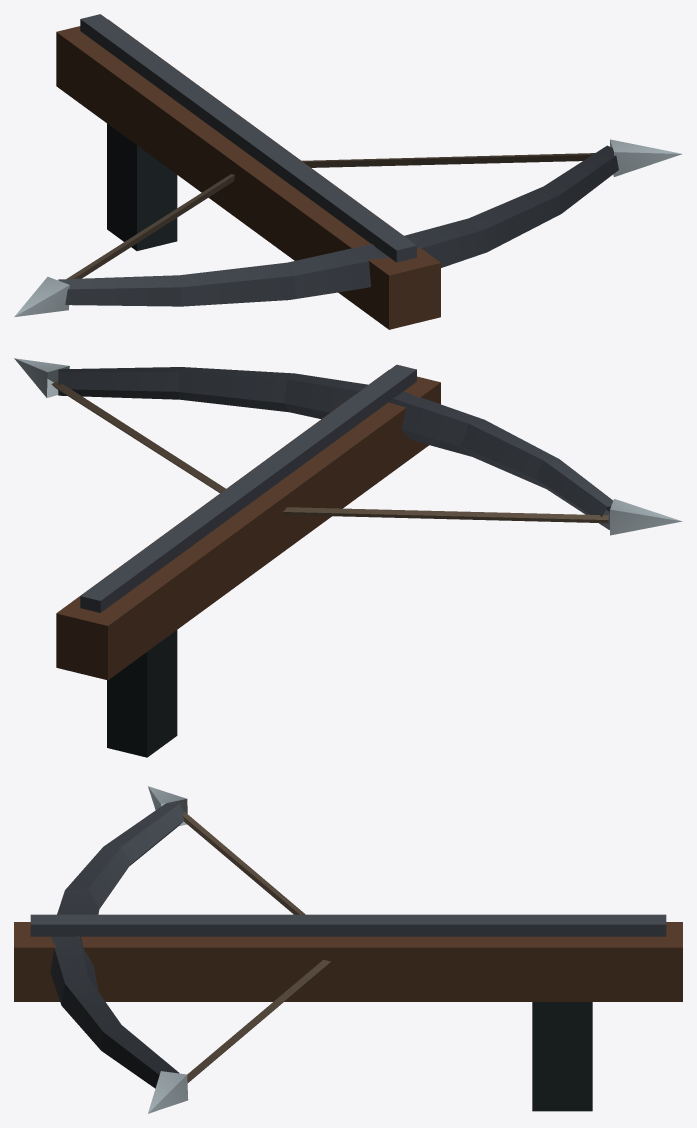
Rendered from ranger_crossbow_1.gltf.
3 renders of one model, top to bottom at view 1: azimuth 30°, elevation 25°; view 2: azimuth 150°, elevation 25°; view 3: azimuth 270°, elevation 25°, orthographic.
Visible parts, largest first — view 1: ranger_crossbow_1; view 2: ranger_crossbow_1; view 3: ranger_crossbow_1.
Part boxes in pixels (box(x1,y1,x2,y2)): ranger_crossbow_1: box(14, 14, 681, 329); ranger_crossbow_1: box(14, 358, 682, 757); ranger_crossbow_1: box(14, 786, 682, 1113).
Bounding box in the file's own units: 1.16 × 0.3 × 1.
1 material, 1 textured.
